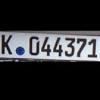0: (28, 36, 40, 56)
1: (87, 38, 98, 58)
3: (64, 37, 76, 57)
4: (40, 36, 52, 56), (52, 36, 63, 57)
7: (76, 38, 87, 58)
K: (0, 33, 13, 55)
